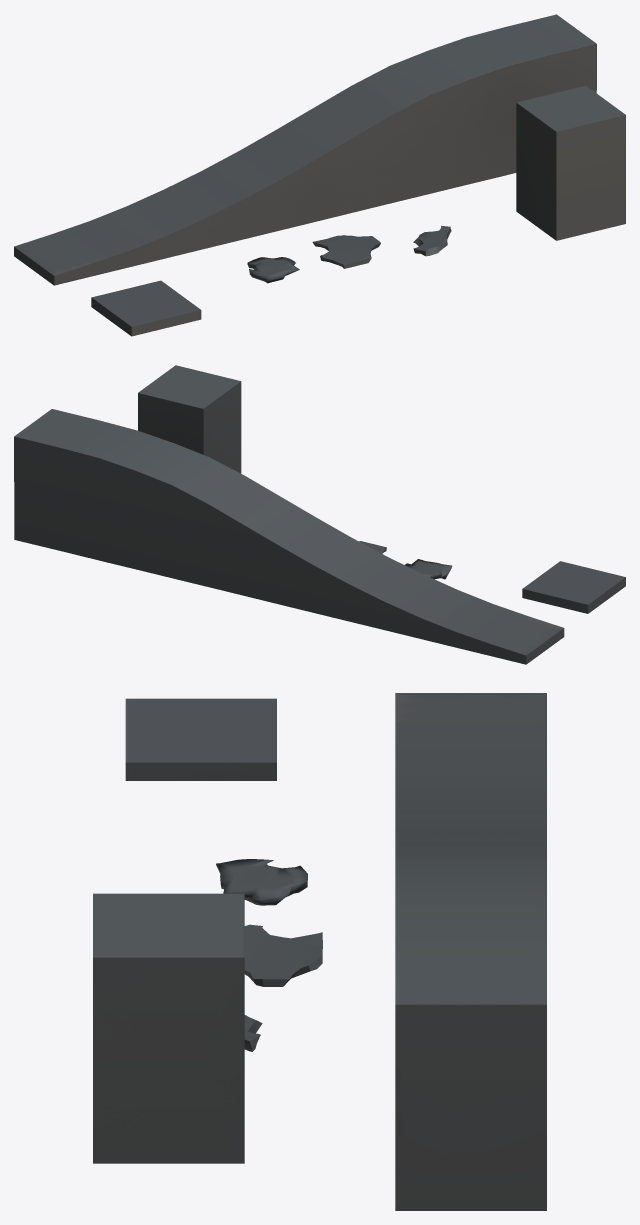
The model's file is Stage 2 Part 2.fbx.
3 views of the same model, one above another, from view 1: azimuth 30°, elevation 25°; view 2: azimuth 150°, elevation 25°; view 3: azimuth 270°, elevation 25° (orthographic). The views are drawn at different scales.
Visible parts, largest first — view 1: Slope, Cube 2, Cube, Obstacle, Obstacle.001, Obstacle.002; view 2: Slope, Cube 2, Cube, Obstacle.001; view 3: Slope, Cube 2, Cube, Obstacle, Obstacle.001.
Boxes of the visible parts, left/top/right/bottom form: Slope: left=14, top=14, right=596, bottom=285; Cube 2: left=516, top=85, right=625, bottom=240; Cube: left=91, top=280, right=201, bottom=336; Obstacle: left=312, top=235, right=380, bottom=268; Obstacle.001: left=247, top=257, right=299, bottom=283; Obstacle.002: left=413, top=226, right=451, bottom=256; Slope: left=14, top=409, right=564, bottom=664; Cube 2: left=138, top=365, right=241, bottom=473; Cube: left=522, top=561, right=625, bottom=613; Obstacle.001: left=405, top=559, right=452, bottom=579; Slope: left=395, top=693, right=546, bottom=1210; Cube 2: left=93, top=893, right=244, bottom=1163; Cube: left=125, top=698, right=276, bottom=780; Obstacle: left=244, top=924, right=322, bottom=986; Obstacle.001: left=216, top=859, right=307, bottom=905.
Bounding box in the file's own units: 75.03 × 15.4 × 28.8.
